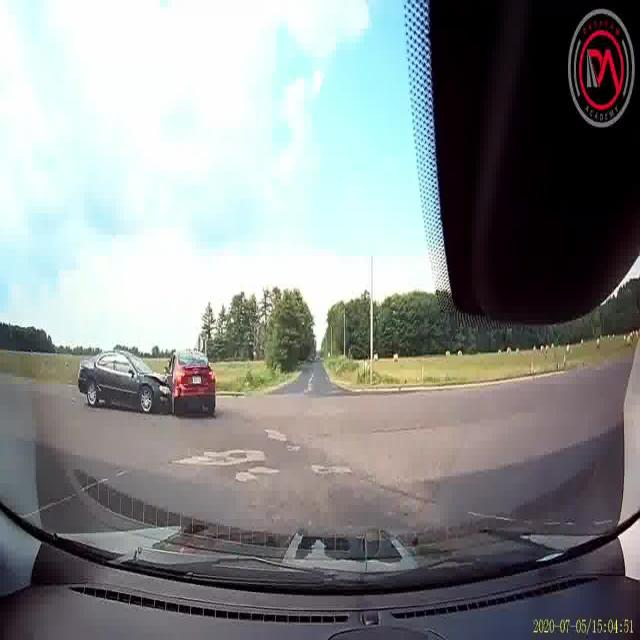Accident: (77, 304, 231, 450)
